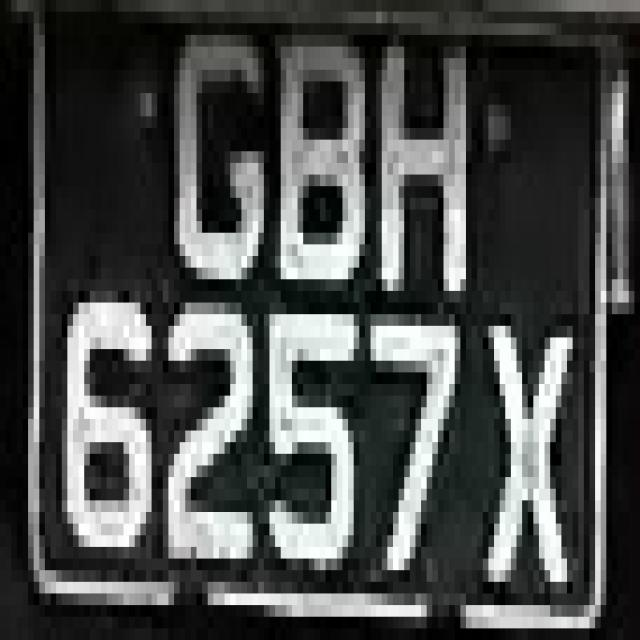2: (146, 279, 264, 582)
5: (253, 279, 365, 605)
6: (56, 256, 157, 570)
7: (348, 303, 455, 570)
B: (253, 46, 376, 302)
G: (169, 46, 275, 302)
H: (365, 35, 477, 337)
X: (472, 267, 595, 594)
